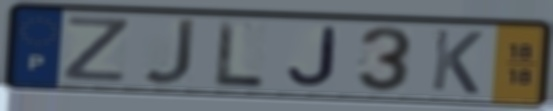3: (352, 24, 415, 94)
J: (139, 17, 199, 88), (284, 25, 340, 89)
K: (427, 27, 486, 97)
L: (214, 18, 267, 89)
Z: (60, 14, 134, 85)
